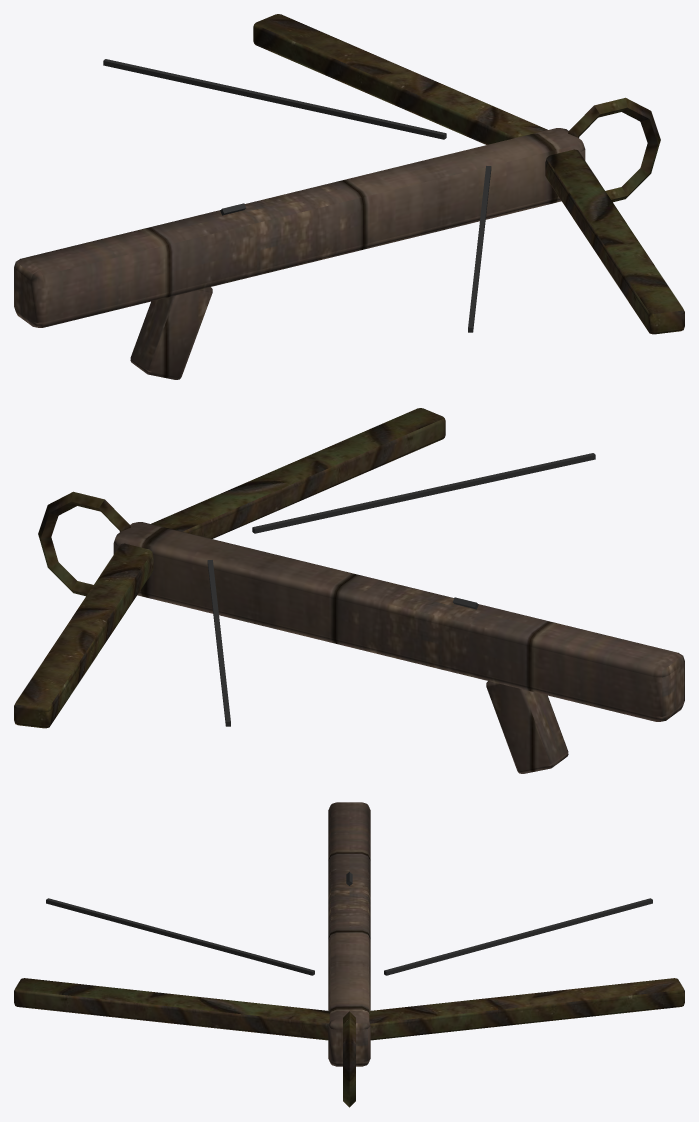
Rendered from held_weapon_crossbow.glb.
3 renders of one model, top to bottom at view 1: azimuth 30°, elevation 25°; view 2: azimuth 150°, elevation 25°; view 3: azimuth 270°, elevation 25°, orthographic. The views are drawn at different scales.
Visible parts, largest first — view 1: box, box.003, box.002, box.001, box.005, torus, box.004; view 2: box, box.002, box.003, box.001, box.004, torus, box.005; view 3: box, box.002, box.003, box.004, box.005, torus.
Part boxes in pixels (x1=…): box: x1=14, y1=128, x2=585, y2=327; box.003: x1=253, y1=14, x2=547, y2=144; box.002: x1=545, y1=149, x2=684, y2=334; box.001: x1=130, y1=287, x2=212, y2=379; box.005: x1=103, y1=59, x2=446, y2=139; torus: x1=568, y1=97, x2=660, y2=202; box.004: x1=468, y1=166, x2=491, y2=332; box: x1=113, y1=522, x2=684, y2=721; box.002: x1=151, y1=408, x2=445, y2=538; box.003: x1=14, y1=543, x2=153, y2=728; box.001: x1=486, y1=681, x2=568, y2=773; box.004: x1=252, y1=453, x2=595, y2=533; torus: x1=38, y1=491, x2=130, y2=596; box.005: x1=207, y1=560, x2=230, y2=726; box: x1=328, y1=802, x2=370, y2=1066; box.002: x1=14, y1=978, x2=329, y2=1040; box.003: x1=369, y1=978, x2=684, y2=1040; box.004: x1=46, y1=898, x2=314, y2=975; box.005: x1=384, y1=898, x2=652, y2=975; torus: x1=343, y1=1011, x2=355, y2=1107.
Size of the model in its own units: 0.576 by 0.1427 by 0.6355.
Materials: 3 (2 with a texture image).
